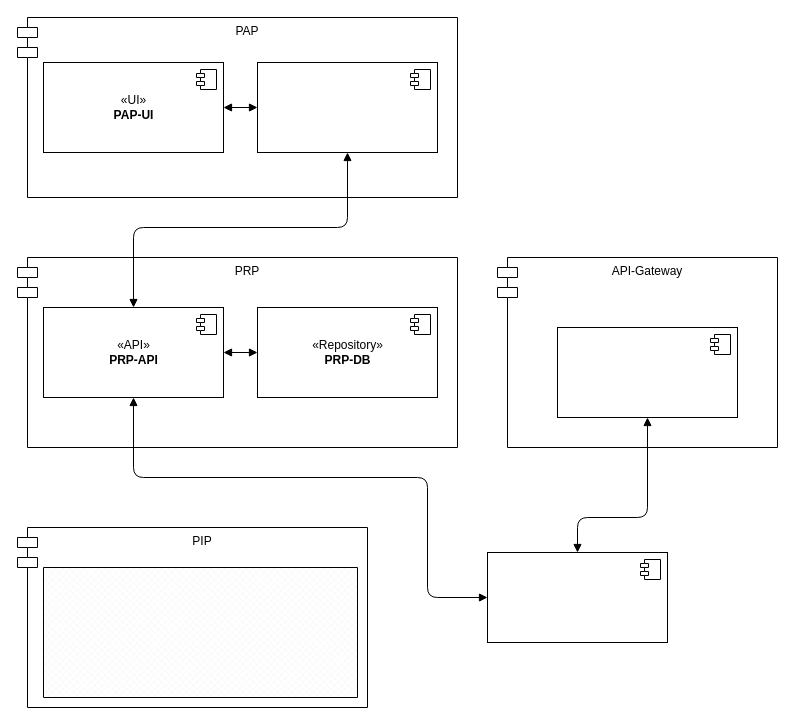
Image size: 795x725. Some labels were removed from this diagram. The shapes that lost their labels are listed below. From the top down, each one's centre as x and y in pixels, then its label:
point 347,107: «API» PAP-API
point 647,372: «Embedded» PEP
point 577,597: «API» PDP
